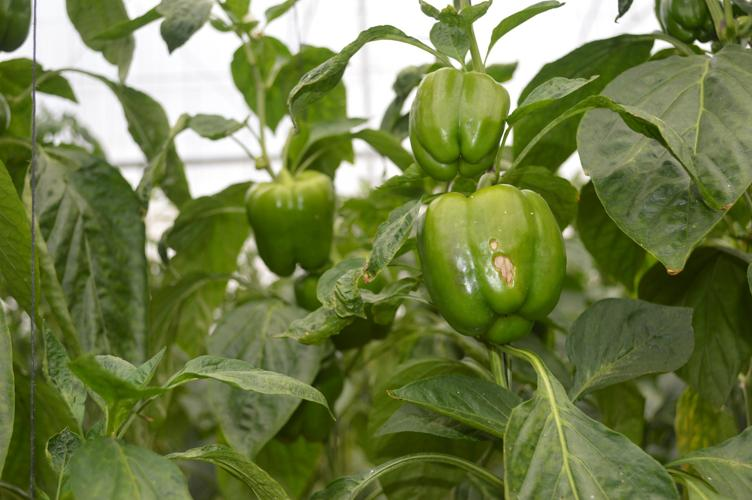BellPepper: (422, 185, 566, 344), (403, 65, 513, 181), (241, 170, 328, 276)
